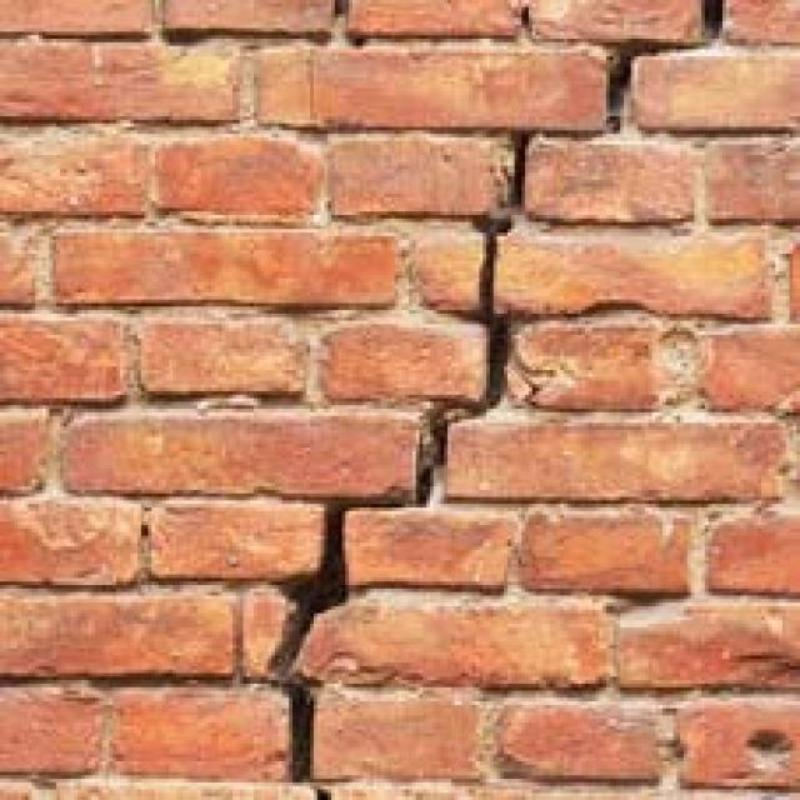pothole: (277, 39, 687, 780), (702, 0, 723, 46), (316, 788, 331, 799)
